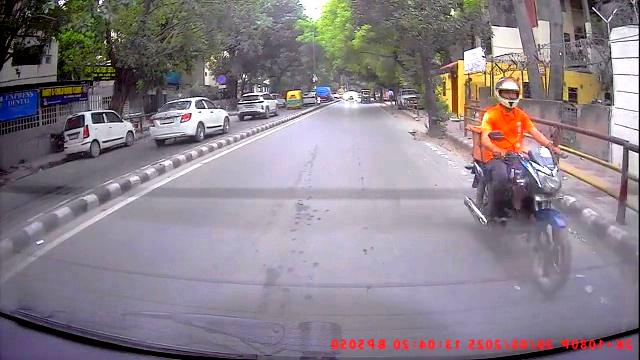motorcycle_with_helmet: (464, 74, 577, 294)
